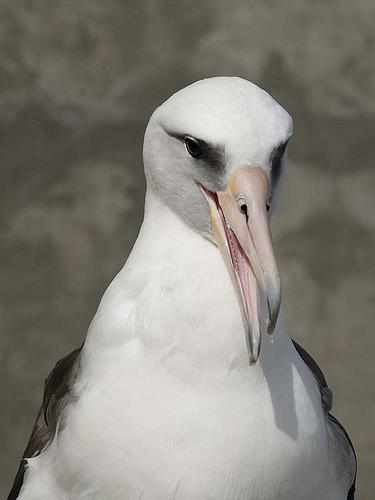002.Laysan_Albatross: (7, 74, 358, 499)
